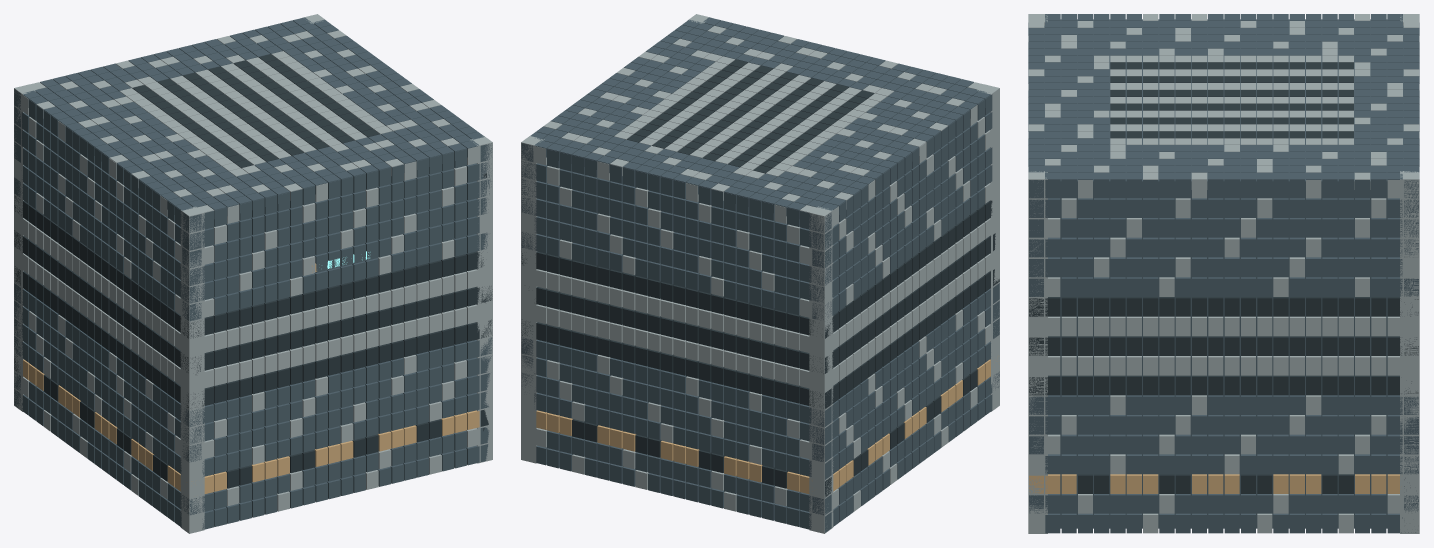
Rendered from FoundryGenerator.fbx.
3 renders of one model, left to right at view 1: azimuth 30°, elevation 25°; view 2: azimuth 150°, elevation 25°; view 3: azimuth 270°, elevation 25°, orthographic. The views are drawn at different scales.
Parts seen in each view (by area): view 1: FoundryGenerator; view 2: FoundryGenerator; view 3: FoundryGenerator.
Part boxes in pixels (box(x1,y1,x2,y2)): FoundryGenerator: box(14, 14, 492, 533); FoundryGenerator: box(521, 14, 999, 533); FoundryGenerator: box(1028, 14, 1419, 533).
Size of the model in its own units: 1 by 1 by 1.
